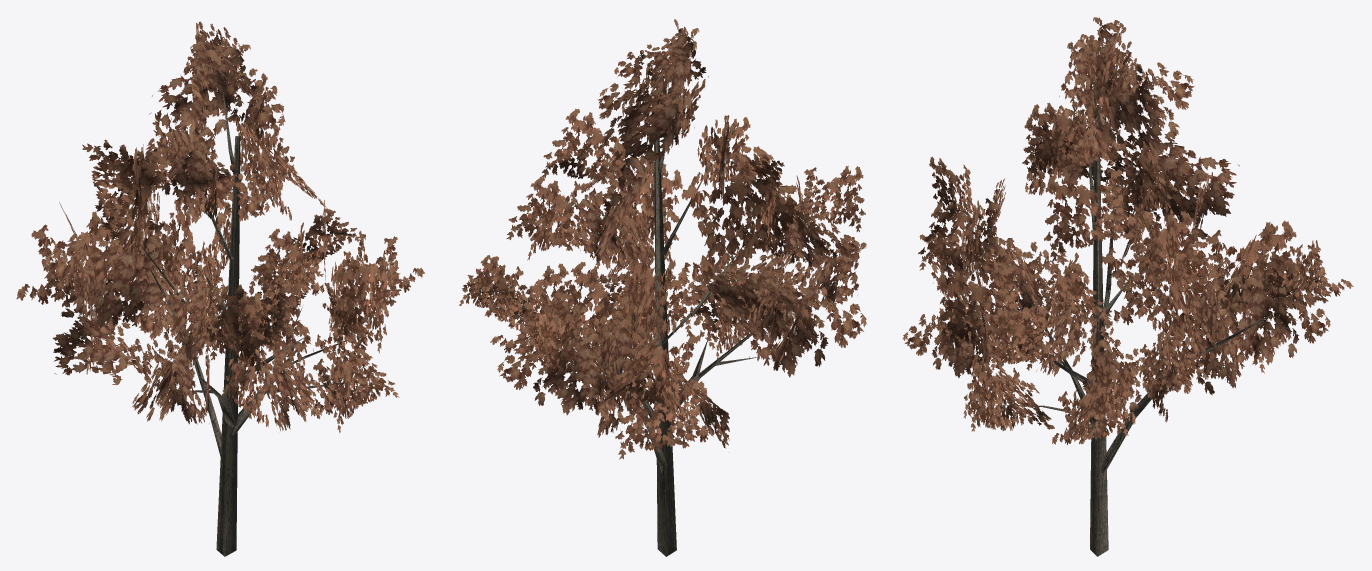
Rendered from Vegetation_Tree02c_lod1.glb.
The picture shows the model from 3 angles, left to right: view 1: azimuth 30°, elevation 25°; view 2: azimuth 150°, elevation 25°; view 3: azimuth 270°, elevation 25°; orthographic projection.
Parts seen in each view (by area): view 1: zw_tree02c_lod1_0; view 2: zw_tree02c_lod1_0; view 3: zw_tree02c_lod1_0.
Part boxes in pixels (x1,y1,x2,y2): zw_tree02c_lod1_0: (16, 21, 424, 556); zw_tree02c_lod1_0: (459, 19, 867, 556); zw_tree02c_lod1_0: (902, 17, 1353, 556).
Bounding box in the file's own units: 9.44 × 14.1 × 11.15.
Materials: 2 (2 with a texture image).
